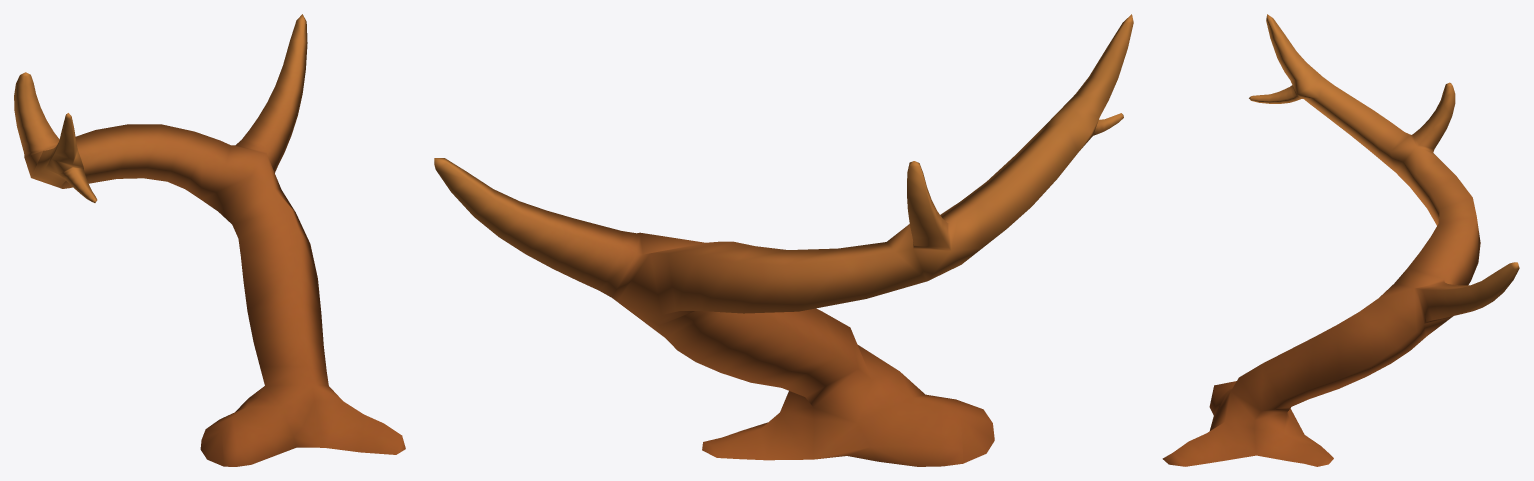
File: ArabianTree_S_02.fbx
The picture shows the model from 3 angles, left to right: view 1: azimuth 30°, elevation 25°; view 2: azimuth 150°, elevation 25°; view 3: azimuth 270°, elevation 25°; orthographic projection. The views are drawn at different scales.
Parts seen in each view (by area): view 1: ArabianTree_S_02; view 2: ArabianTree_S_02; view 3: ArabianTree_S_02.
Boxes of the visible parts, x1,y1,x2,y2 form: ArabianTree_S_02: (14, 14, 405, 466); ArabianTree_S_02: (434, 14, 1133, 466); ArabianTree_S_02: (1162, 14, 1519, 466).
Size of the model in its own units: 505 by 466 by 461.
